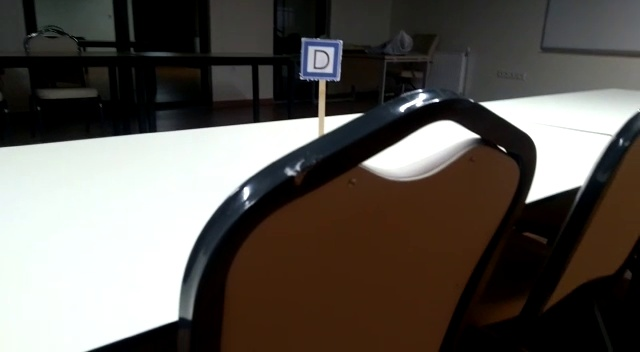durak: (300, 40, 342, 78)
